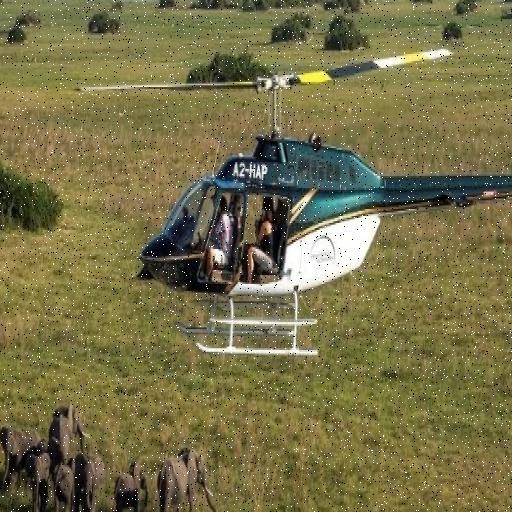helicopter: (97, 29, 512, 370)
